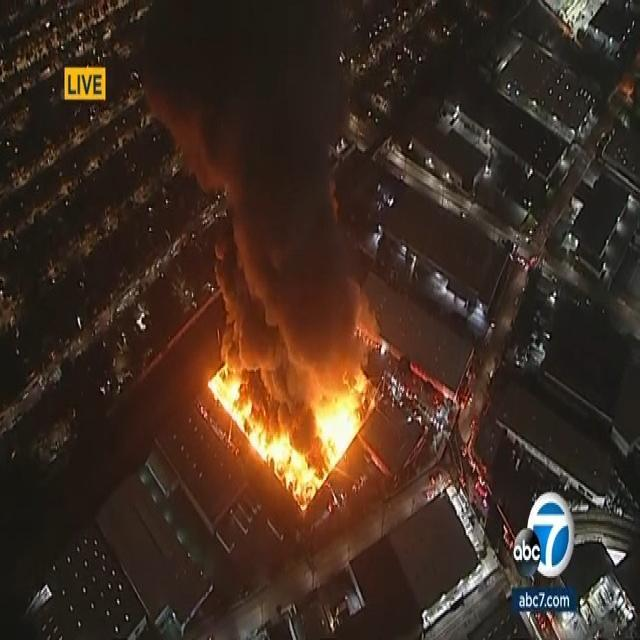Fire: (314, 378, 364, 466), (247, 422, 306, 479), (210, 364, 250, 432), (276, 468, 332, 508)
Smoke: (135, 0, 364, 459)
